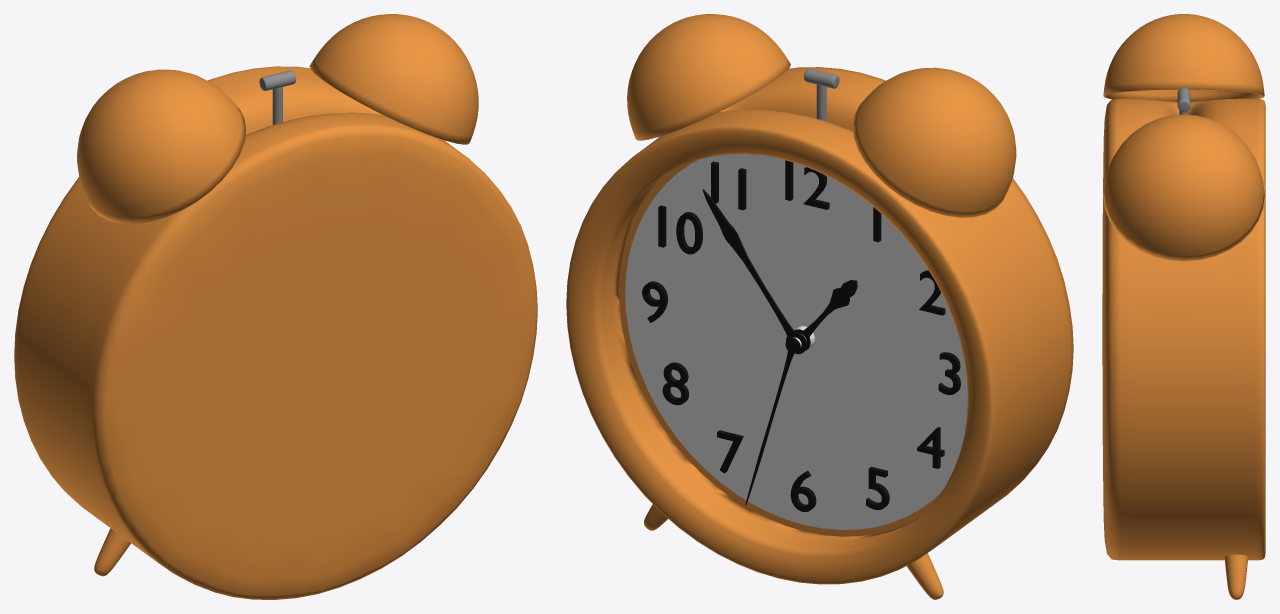
Rendered from alarm_clock.fbx.
The picture shows the model from 3 angles, left to right: view 1: azimuth 30°, elevation 25°; view 2: azimuth 150°, elevation 25°; view 3: azimuth 270°, elevation 25°; orthographic projection. The views are drawn at different scales.
Parts seen in each view (by area): view 1: Cylinder, Sphere, Circle.003; view 2: Cylinder, Sphere, Circle.001, Circle.003, Text.010, Circle, Circle.002, Text, Text.008, Text.011; view 3: Cylinder, Sphere, Circle.003, Cylinder.004.
Part boxes in pixels (x1,y1,x2,y2): Cylinder: [14, 66, 537, 599]; Sphere: [77, 14, 478, 224]; Circle.003: [94, 528, 130, 576]; Cylinder: [566, 67, 1073, 584]; Sphere: [627, 14, 1016, 217]; Circle.001: [702, 189, 807, 354]; Circle.003: [644, 504, 943, 599]; Text.010: [658, 205, 702, 254]; Circle: [794, 280, 857, 350]; Circle.002: [745, 337, 800, 505]; Text: [785, 160, 829, 209]; Text.008: [662, 362, 688, 405]; Text.011: [711, 161, 746, 210]; Cylinder: [1102, 98, 1265, 560]; Sphere: [1103, 14, 1264, 261]; Circle.003: [1224, 554, 1248, 599]; Cylinder.004: [1177, 87, 1190, 111].
Bounding box in the file's own units: 195 × 218 × 68.87.
